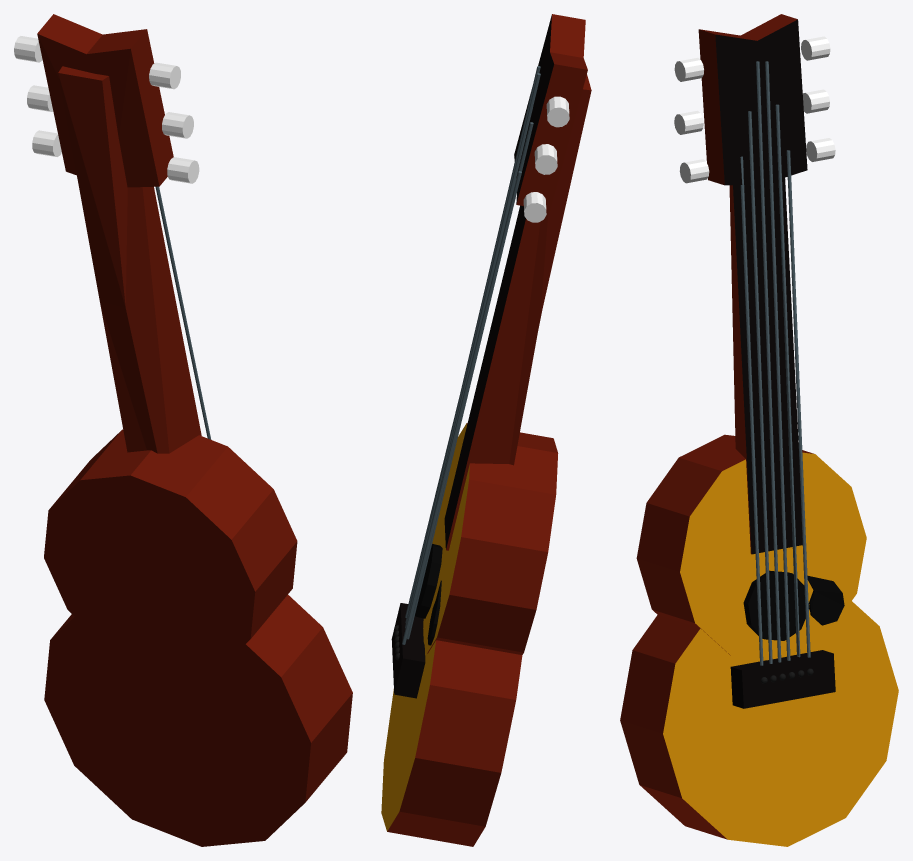
The model's file is Guitar.fbx.
The picture shows the model from 3 angles, left to right: view 1: azimuth 30°, elevation 25°; view 2: azimuth 150°, elevation 25°; view 3: azimuth 270°, elevation 25°; orthographic projection. The views are drawn at different scales.
Parts seen in each view (by area): view 1: 5vt3085xJxP_0_0_0, 5vt3085xJxP_1_0_0; view 2: 5vt3085xJxP_0_0_0, 5vt3085xJxP_1_0_0; view 3: 5vt3085xJxP_0_0_0, 5vt3085xJxP_1_0_0.
Part boxes in pixels (x1,y1,x2,y2): 5vt3085xJxP_0_0_0: (37,14,352,846); 5vt3085xJxP_1_0_0: (14,36,199,183); 5vt3085xJxP_0_0_0: (381,14,591,846); 5vt3085xJxP_1_0_0: (523,96,569,222); 5vt3085xJxP_0_0_0: (620,14,898,846); 5vt3085xJxP_1_0_0: (674,36,835,183).
Size of the model in its own units: 0.0826 by 0.2601 by 0.0856.
